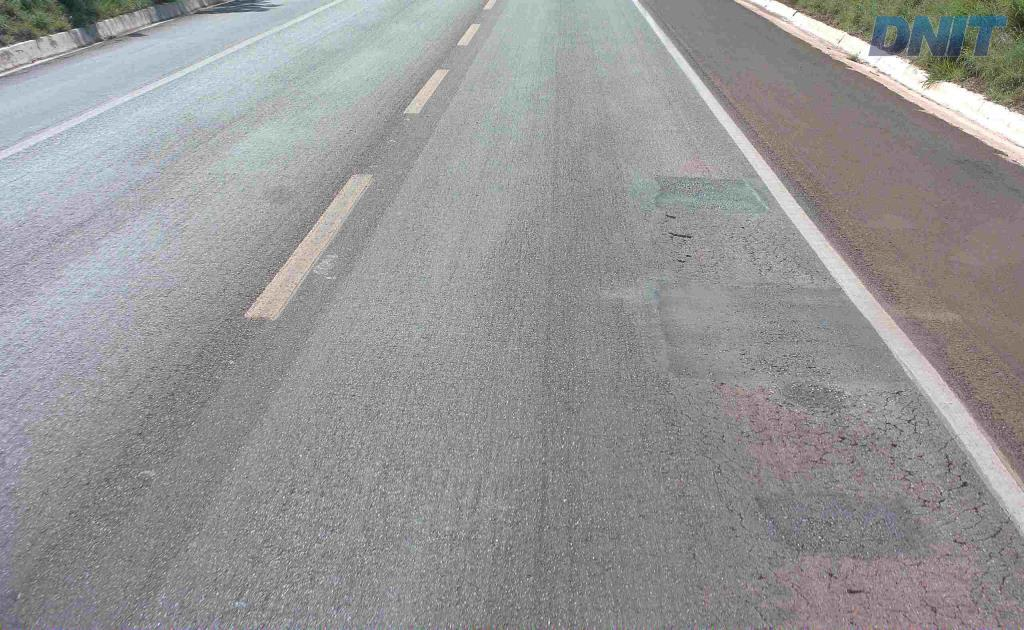crack: (778, 515, 856, 558)
